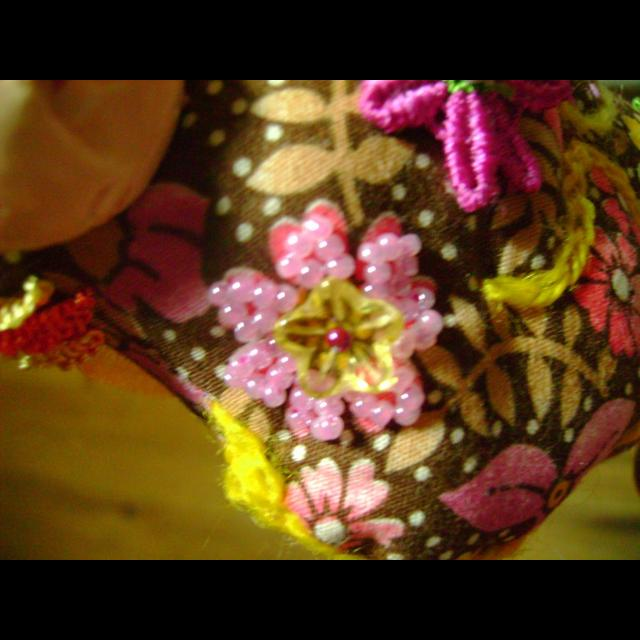Flower: (211, 197, 454, 439), (350, 80, 568, 202), (282, 461, 408, 554), (569, 224, 639, 362)
